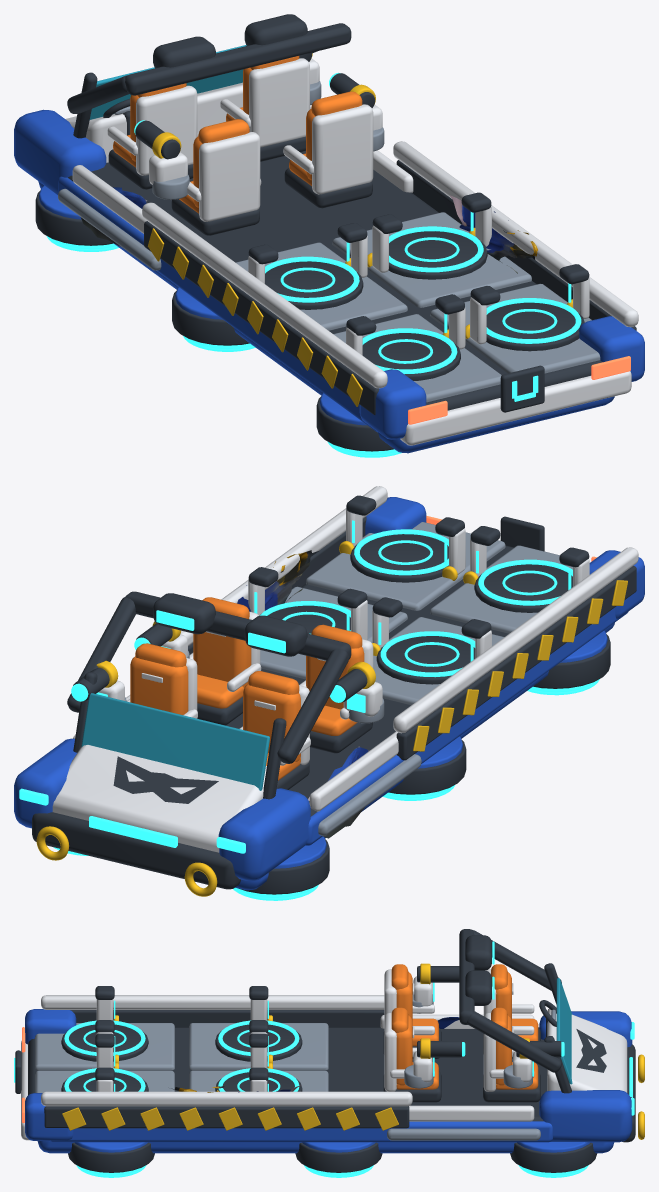
The model's file is HoverTruck.fbx.
The picture shows the model from 3 angles, top to bottom: view 1: azimuth 30°, elevation 25°; view 2: azimuth 150°, elevation 25°; view 3: azimuth 270°, elevation 25°; orthographic projection. The views are drawn at different scales.
Parts seen in each view (by area): view 1: Main_Chassis_Hover_Graphite, Main_Chassis_Hover_Porcelain, Main_Chassis_Hover_Cobalt, Seat_3_Hover_Porcelain, Seat_2_Hover_Porcelain, Seat_1_Hover_Porcelain, Dock_Tile.001, Seat_0_Hover_Porcelain, Dock_Tile.003, Magnet_Platform.001, Magnet_Platform.003, Dock_Tile (+27 smaller); view 2: Main_Chassis_Hover_Graphite, Main_Chassis_Hover_Cobalt, Main_Chassis_Hover_Porcelain, Front_Nose, Windscreen, Main_Chassis_Hover_Hazard, Dock_Tile.003, Seat_3_Hover_Orange, Seat_1_Hover_Orange, Seat_0_Hover_Orange, Magnet_Platform.003, Dock_Tile.002 (+25 smaller); view 3: Main_Chassis_Hover_Graphite, Main_Chassis_Hover_Cobalt, Main_Chassis_Hover_Porcelain, Dock_Tile, Main_Chassis_Hover_Hazard, Front_Nose, Dock_Tile.002, Main_Chassis_Hover_Steel, Engine_Housing.003, Engine_Housing.001, Engine_Housing.005, Magnet_Platform (+36 smaller).
Boxes of the visible parts, left/top/right/bottom form: Main_Chassis_Hover_Graphite: left=67, top=14, right=636, bottom=415; Main_Chassis_Hover_Porcelain: left=72, top=141, right=638, bottom=445; Main_Chassis_Hover_Cobalt: left=14, top=109, right=644, bottom=453; Seat_3_Hover_Porcelain: left=283, top=104, right=373, bottom=194; Seat_2_Hover_Porcelain: left=187, top=132, right=261, bottom=221; Seat_1_Hover_Porcelain: left=220, top=58, right=310, bottom=147; Dock_Tile.001: left=332, top=212, right=531, bottom=307; Seat_0_Hover_Porcelain: left=107, top=85, right=197, bottom=175; Dock_Tile.003: left=430, top=283, right=600, bottom=373; Magnet_Platform.001: left=388, top=231, right=487, bottom=279; Magnet_Platform.003: left=486, top=302, right=584, bottom=351; Dock_Tile: left=236, top=242, right=407, bottom=330; Main_Chassis_Hover_Graphite: left=32, top=516, right=636, bottom=889; Main_Chassis_Hover_Cobalt: left=14, top=497, right=644, bottom=890; Main_Chassis_Hover_Porcelain: left=73, top=486, right=638, bottom=811; Front_Nose: left=52, top=745, right=266, bottom=852; Windscreen: left=81, top=693, right=269, bottom=790; Main_Chassis_Hover_Hazard: left=36, top=580, right=627, bottom=896; Dock_Tile.003: left=306, top=522, right=505, bottom=610; Seat_3_Hover_Orange: left=193, top=597, right=251, bottom=708; Seat_1_Hover_Orange: left=130, top=643, right=188, bottom=714; Seat_0_Hover_Orange: left=243, top=671, right=300, bottom=780; Magnet_Platform.003: left=350, top=534, right=448, bottom=582; Dock_Tile.002: left=430, top=545, right=572, bottom=633; Main_Chassis_Hover_Graphite: left=15, top=929, right=635, bottom=1142; Main_Chassis_Hover_Cobalt: left=25, top=1009, right=632, bottom=1153; Main_Chassis_Hover_Porcelain: left=21, top=995, right=596, bottom=1140; Dock_Tile: left=189, top=1023, right=328, bottom=1070; Main_Chassis_Hover_Hazard: left=62, top=1054, right=644, bottom=1139; Front_Nose: left=547, top=1008, right=627, bottom=1092; Dock_Tile.002: left=35, top=1023, right=174, bottom=1070; Main_Chassis_Hover_Steel: left=387, top=1128, right=540, bottom=1140; Engine_Housing.003: left=295, top=1142, right=382, bottom=1172; Engine_Housing.001: left=510, top=1142, right=597, bottom=1172; Engine_Housing.005: left=68, top=1142, right=154, bottom=1172; Magnet_Platform: left=215, top=1024, right=302, bottom=1061.
Bounding box in the file's own units: 396 × 289 × 985.
Materials: 10 (1 with a texture image).
